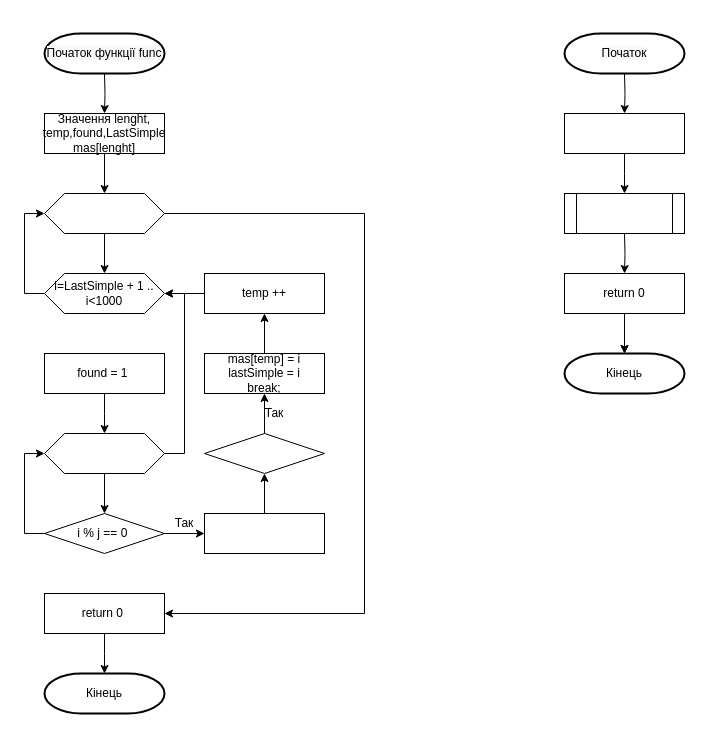
Image size: 703x731. Some labels were removed from this diagram. Here are the shapes that lost their labels. From the top down, the box of each, then its label:
(564, 112, 684, 154): Значення int length mas[length]
(44, 192, 164, 234): temp < length
(564, 192, 684, 234): mas[length] = func(length,mas)
(44, 432, 164, 474): j = 2 .. j < i
(204, 432, 324, 474): found != 0
(204, 512, 324, 554): found = 0 ; break
